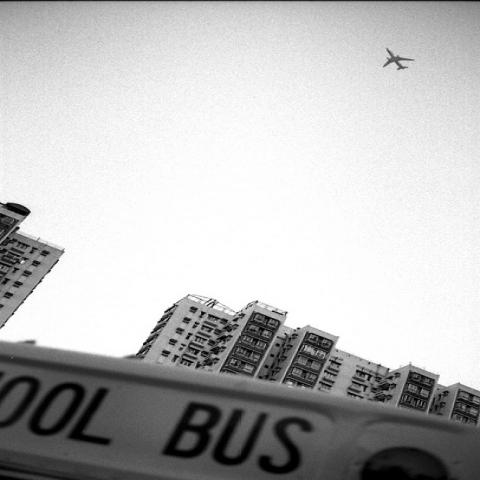bus: (3, 338, 479, 480)
